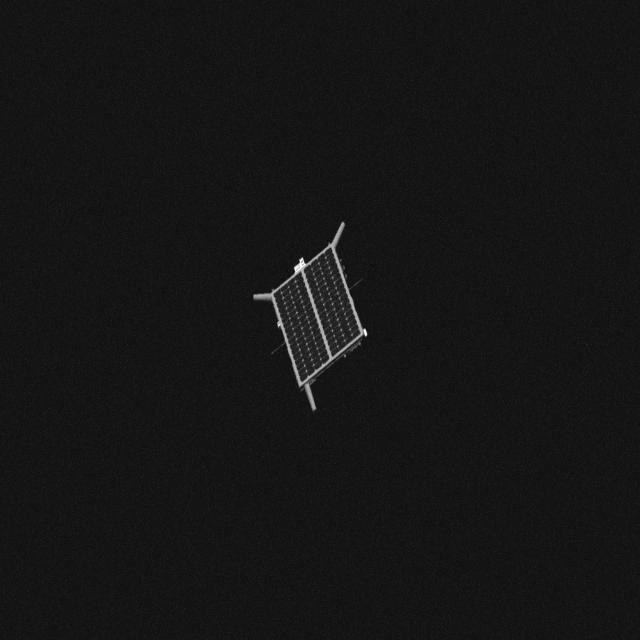satellite: (238, 224, 372, 414)
